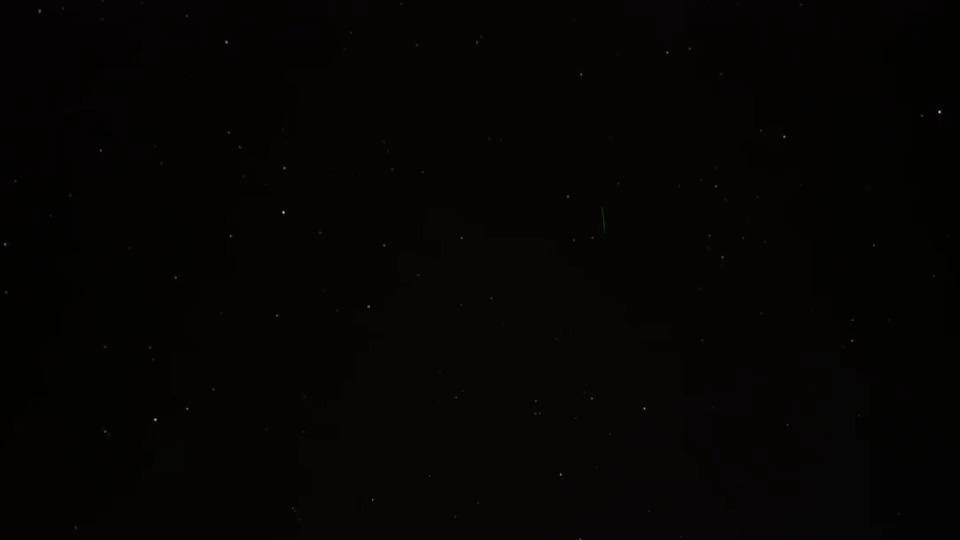meteorite: (571, 202, 636, 236)
